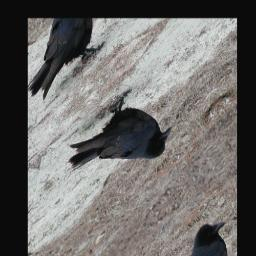Crow: (60, 75, 179, 216)
